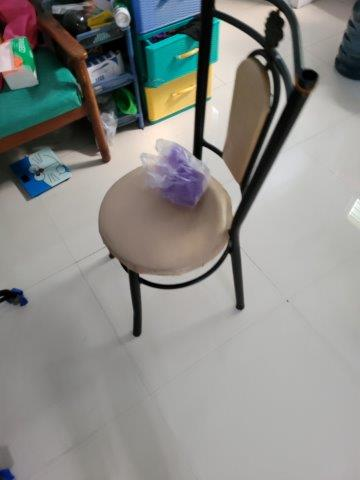plastik: (137, 140, 211, 208)
